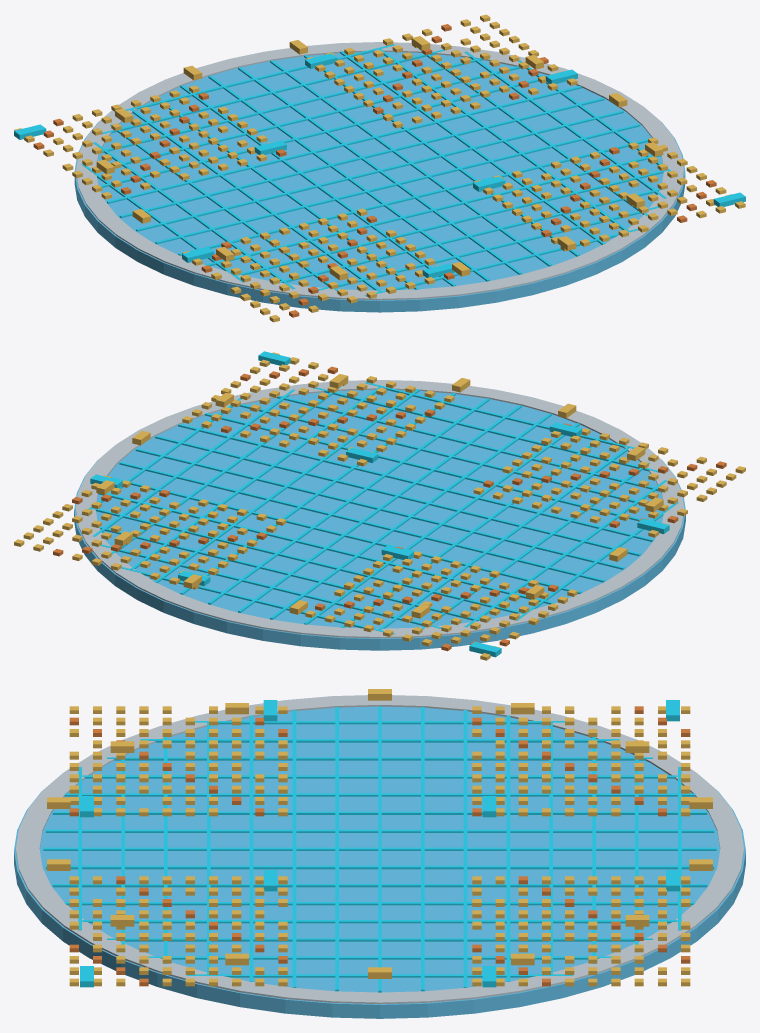
File: 03_L79_BondReadyInterconnectWafer.fbx
The picture shows the model from 3 angles, top to bottom: view 1: azimuth 30°, elevation 25°; view 2: azimuth 150°, elevation 25°; view 3: azimuth 270°, elevation 25°; orthographic projection. The views are drawn at different scales.
Parts seen in each view (by area): view 1: BondReadyInterconnectWafer; view 2: BondReadyInterconnectWafer; view 3: BondReadyInterconnectWafer.
Part boxes in pixels (x1,y1,x2,y2): BondReadyInterconnectWafer: (14,14,745,322); BondReadyInterconnectWafer: (14,351,745,660); BondReadyInterconnectWafer: (14,689,745,1018).
Bounding box in the file's own units: 200 × 10.1 × 200.
